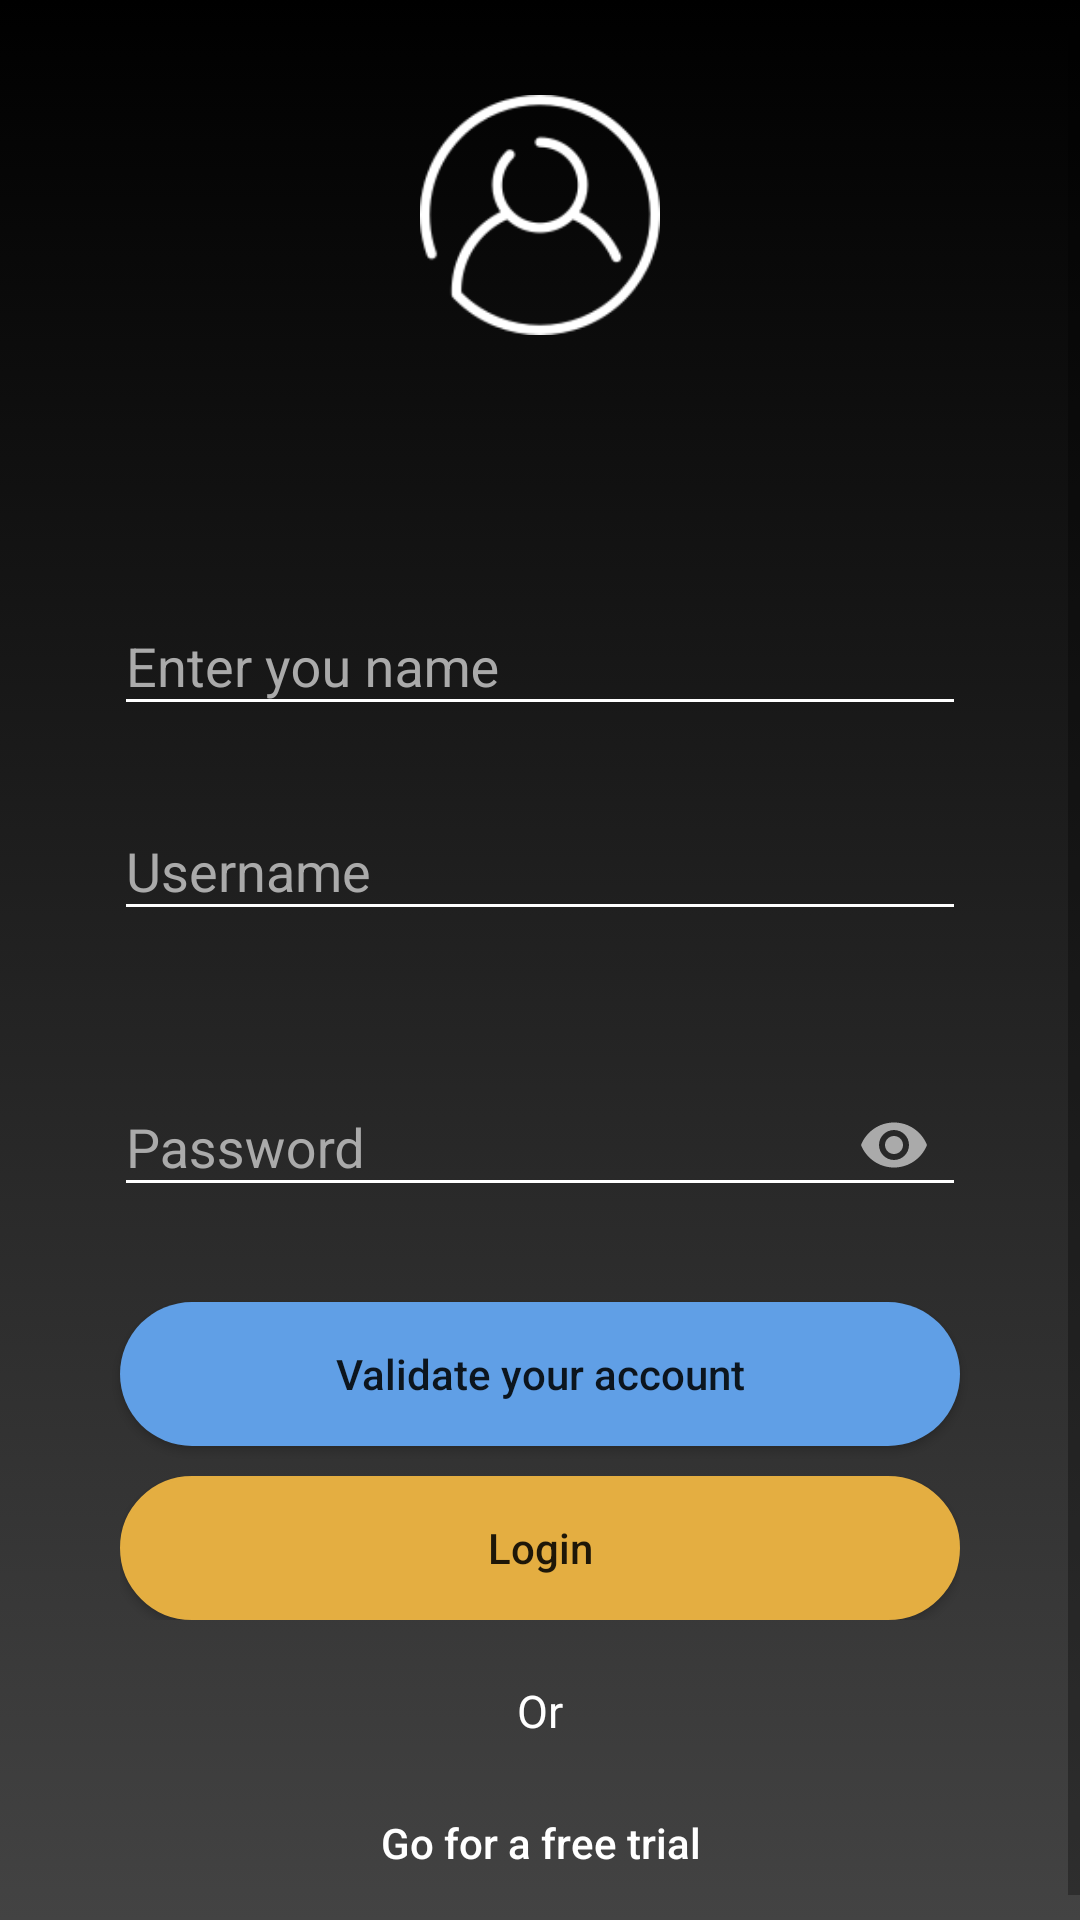

Locate icon controls on the screen. Image size 1080x1920, boxes as (x1, y1, x2, y2).
user: (420, 95, 660, 335)
